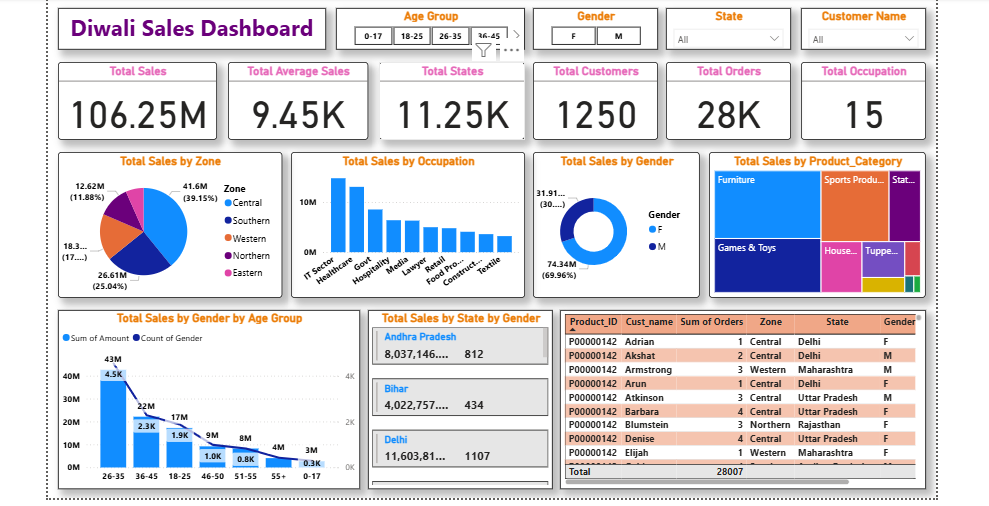

Layout of this report page (visuals, bound fields, positions):
{"tool":"powerbi","page":{"name":"Page 1","canvas":[1280,720],"ordinal":0},"visuals":[{"type":"textbox","box":[14.4,14.4,385.9,60.5],"z":0},{"type":"slicer","title":"Age Group","fields":{"Values":["Diwali Sales Data.Age Group"]},"box":[414.7,14.4,272.2,60.5],"z":1000},{"type":"slicer","title":"Gender","fields":{"Values":["Diwali Sales Data.Gender"]},"box":[698.4,14.4,180,60.5],"z":2000},{"type":"slicer","title":"State","fields":{"Values":["Diwali Sales Data.State"]},"box":[889.9,14.4,180,60.5],"z":3000},{"type":"slicer","title":" Customer Name","fields":{"Values":["Diwali Sales Data.Cust_name"]},"box":[1084.3,14.4,180,60.5],"z":4000},{"type":"card","title":"Total Sales","fields":{"Values":["Sum(Diwali Sales Data.Amount)"]},"box":[14.4,92.2,229,112.3],"z":5000},{"type":"card","title":"Total Average Sales","fields":{"Values":["Avg(Diwali Sales Data.Amount)"]},"box":[259.2,92.2,201.6,112.3],"z":6000},{"type":"card","title":"Total States","fields":{"Values":["CountNonNull(Diwali Sales Data.Status)"]},"box":[476.6,92.2,210.2,112.3],"z":7000},{"type":"card","title":"Total Customers","fields":{"Values":["Count(Diwali Sales Data.Cust_name)"]},"box":[698.4,92.2,180,112.3],"z":8000},{"type":"card","title":"Total Occupation","fields":{"Values":["Count(Diwali Sales Data.Occupation)"]},"box":[1084.3,92.2,180,112.3],"z":9000},{"type":"donutChart","title":"Total Sales by Gender","fields":{"Y":["Sum(Diwali Sales Data.Amount)"],"Category":["Diwali Sales Data.Gender"]},"box":[698.4,221.8,240.5,210.2],"z":10000},{"type":"columnChart","title":"Total Sales by Occupation","fields":{"Y":["Sum(Diwali Sales Data.Amount)"],"Category":["Diwali Sales Data.Occupation"]},"box":[349.9,221.8,337,210.2],"z":11000},{"type":"treemap","title":"Total Sales by Product_Category","fields":{"Group":["Diwali Sales Data.Product_Category"],"Values":["Sum(Diwali Sales Data.Amount)"]},"box":[951.8,221.8,312.5,210.2],"z":12000},{"type":"pieChart","title":"Total Sales by Zone","fields":{"Y":["Sum(Diwali Sales Data.Amount)"],"Category":["Diwali Sales Data.Zone"]},"box":[14.4,221.8,322.6,210.2],"z":13000},{"type":"lineStackedColumnComboChart","title":"Total Sales by Gender by Age Group","fields":{"Y":["Sum(Diwali Sales Data.Amount)"],"Category":["Diwali Sales Data.Age Group"],"Y2":["CountNonNull(Diwali Sales Data.Gender)"]},"box":[14.4,449.3,434.9,257.8],"z":14000},{"type":"multiRowCard","title":"Total Sales by State by Gender","fields":{"Values":["Diwali Sales Data.State","Sum(Diwali Sales Data.Amount)","CountNonNull(Diwali Sales Data.Gender)"]},"box":[460.8,449.3,266.4,257.8],"z":15000},{"type":"tableEx","fields":{"Values":["Diwali Sales Data.Product_ID","Diwali Sales Data.Cust_name","Sum(Diwali Sales Data.Orders)","Diwali Sales Data.Zone","Diwali Sales Data.State","Diwali Sales Data.Gender","Sum(Diwali Sales Data.Amount)"]},"box":[737.3,449.3,527,257.8],"z":16000},{"type":"card","title":"Total Orders","fields":{"Values":["Sum(Diwali Sales Data.Orders)"]},"box":[889.9,92.2,180,112.3],"z":17000}]}

Visuals, with their boxes in screenshot pixels (x1, y1, x2, y2):
textbox: left=59, top=5, right=326, bottom=47
"Age Group" slicer: left=336, top=5, right=524, bottom=47
"Gender" slicer: left=532, top=5, right=656, bottom=47
"State" slicer: left=664, top=5, right=789, bottom=47
" Customer Name" slicer: left=799, top=5, right=923, bottom=47
"Total Sales" card: left=59, top=59, right=217, bottom=136
"Total Average Sales" card: left=228, top=59, right=368, bottom=136
"Total States" card: left=378, top=59, right=524, bottom=136
"Total Customers" card: left=532, top=59, right=656, bottom=136
"Total Occupation" card: left=799, top=59, right=923, bottom=136
"Total Sales by Gender" donutChart: left=532, top=148, right=698, bottom=294
"Total Sales by Occupation" columnChart: left=291, top=148, right=524, bottom=294
"Total Sales by Product_Category" treemap: left=707, top=148, right=923, bottom=294
"Total Sales by Zone" pieChart: left=59, top=148, right=282, bottom=294
"Total Sales by Gender by Age Group" lineStackedColumnComboChart: left=59, top=306, right=360, bottom=484
"Total Sales by State by Gender" multiRowCard: left=368, top=306, right=552, bottom=484
tableEx - Diwali Sales Data.Product_ID x Diwali Sales Data.Cust_name: left=559, top=306, right=923, bottom=484
"Total Orders" card: left=664, top=59, right=789, bottom=136
